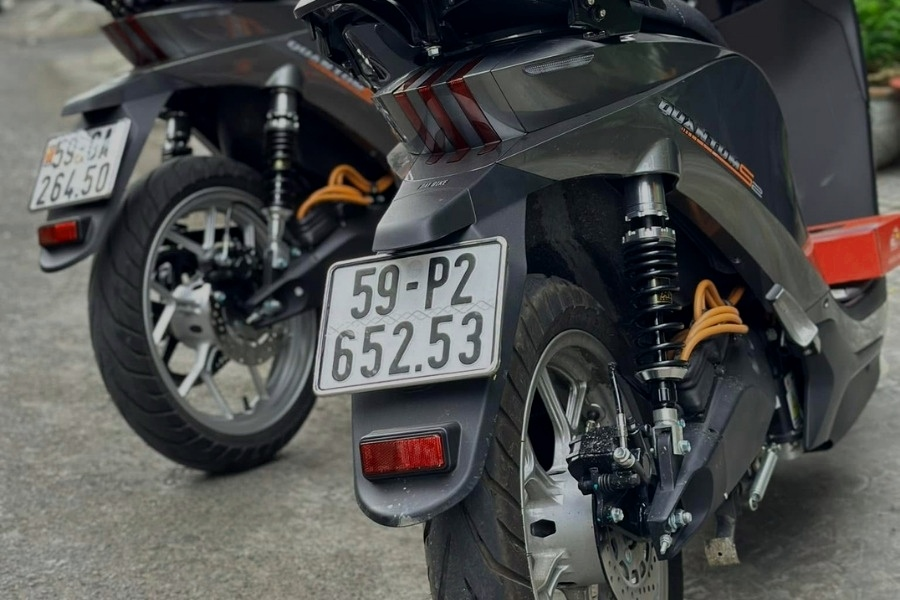Bien-so: (299, 228, 496, 389), (10, 131, 116, 230)
